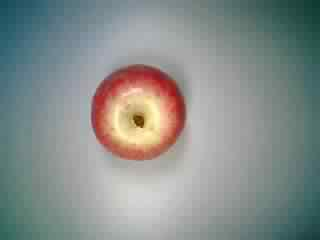apple: (84, 57, 190, 161)
